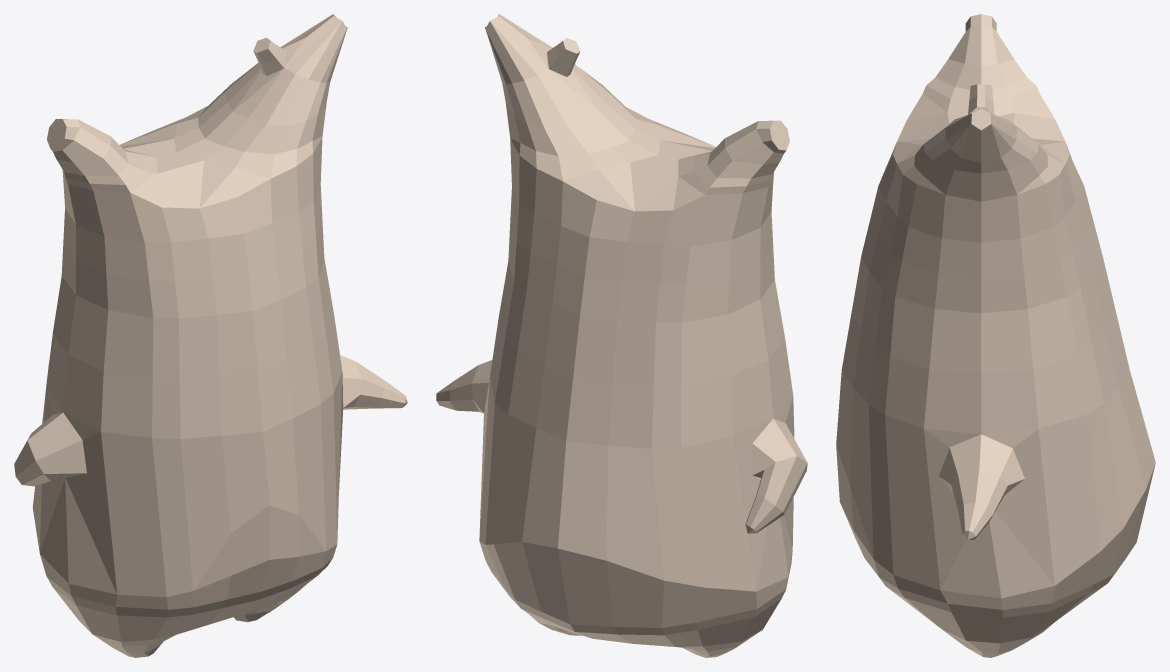
The model's file is frame_0015.obj.
The picture shows the model from 3 angles, left to right: view 1: azimuth 30°, elevation 25°; view 2: azimuth 150°, elevation 25°; view 3: azimuth 270°, elevation 25°; orthographic projection.
Parts seen in each view (by area): view 1: korok; view 2: korok; view 3: korok.
Part boxes in pixels (x1=…): korok: x1=14, y1=14, x2=407, y2=657; korok: x1=436, y1=14, x2=807, y2=657; korok: x1=836, y1=14, x2=1155, y2=657.
Size of the model in its own units: 1.42 by 2.16 by 1.07.
